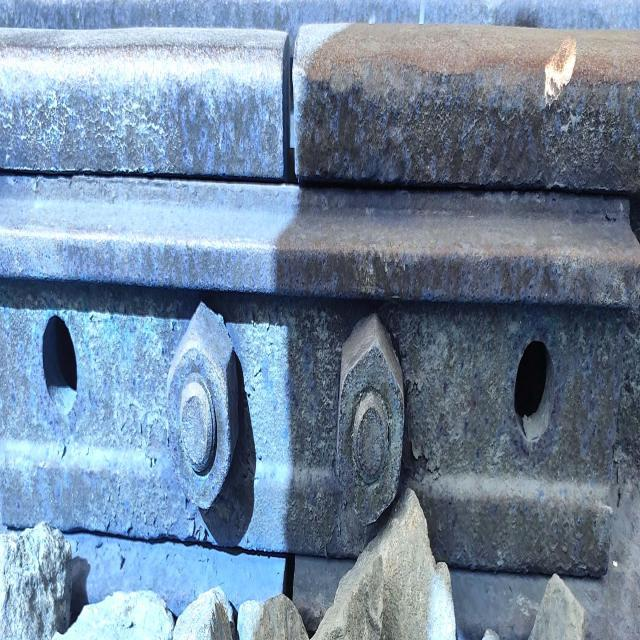Defective Joint: (2, 181, 615, 584)
